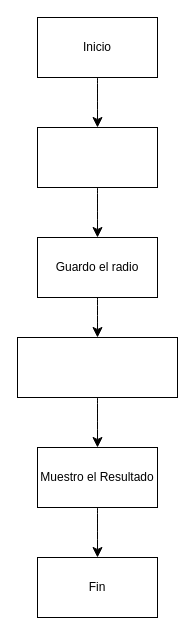
This 195x635 diagram has some shape labels left out. The box of each missing label's shape, as (x1, y1, x2, y2) in pixels:
Calcular el area area= 3,14 x radio x radio: (16, 336, 178, 398)
Pido al usuario el radio del circulo: (36, 126, 158, 188)
